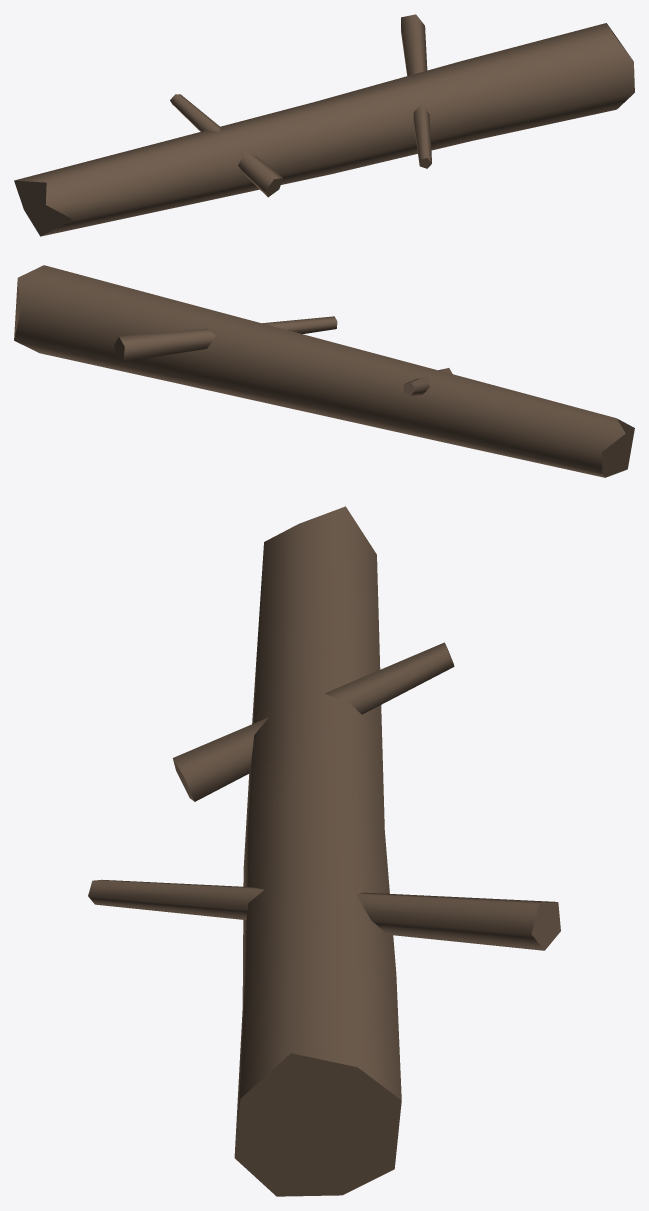
The model's file is driftwood-4.glb.
3 views of the same model, one above another, from view 1: azimuth 30°, elevation 25°; view 2: azimuth 150°, elevation 25°; view 3: azimuth 270°, elevation 25° (orthographic). The views are drawn at different scales.
Parts seen in each view (by area): view 1: driftwood-4; view 2: driftwood-4; view 3: driftwood-4.
Boxes of the visible parts, <box> form: driftwood-4: <box>14,14,634,236</box>; driftwood-4: <box>14,265,634,477</box>; driftwood-4: <box>88,506,560,1196</box>.
Bounding box in the file's own units: 3.48 × 0.4766 × 1.2.
